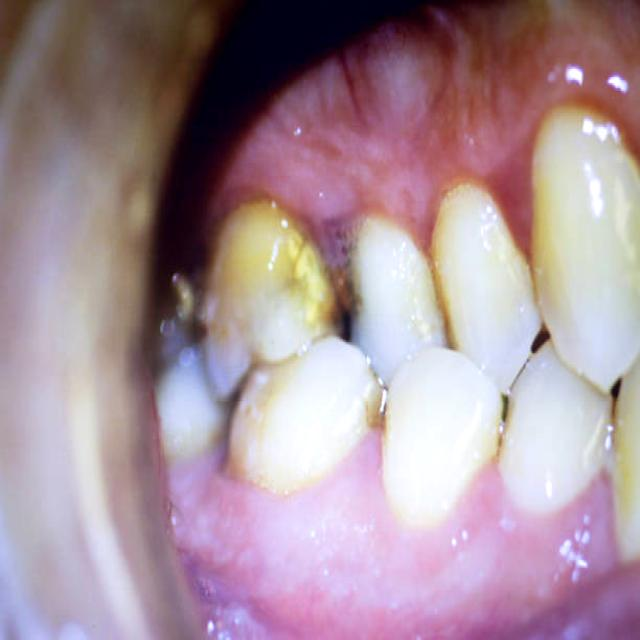calculus: (208, 199, 336, 328), (597, 386, 630, 518), (418, 249, 450, 347), (433, 253, 458, 348), (359, 375, 389, 447)
gingivitis: (170, 428, 615, 638)
